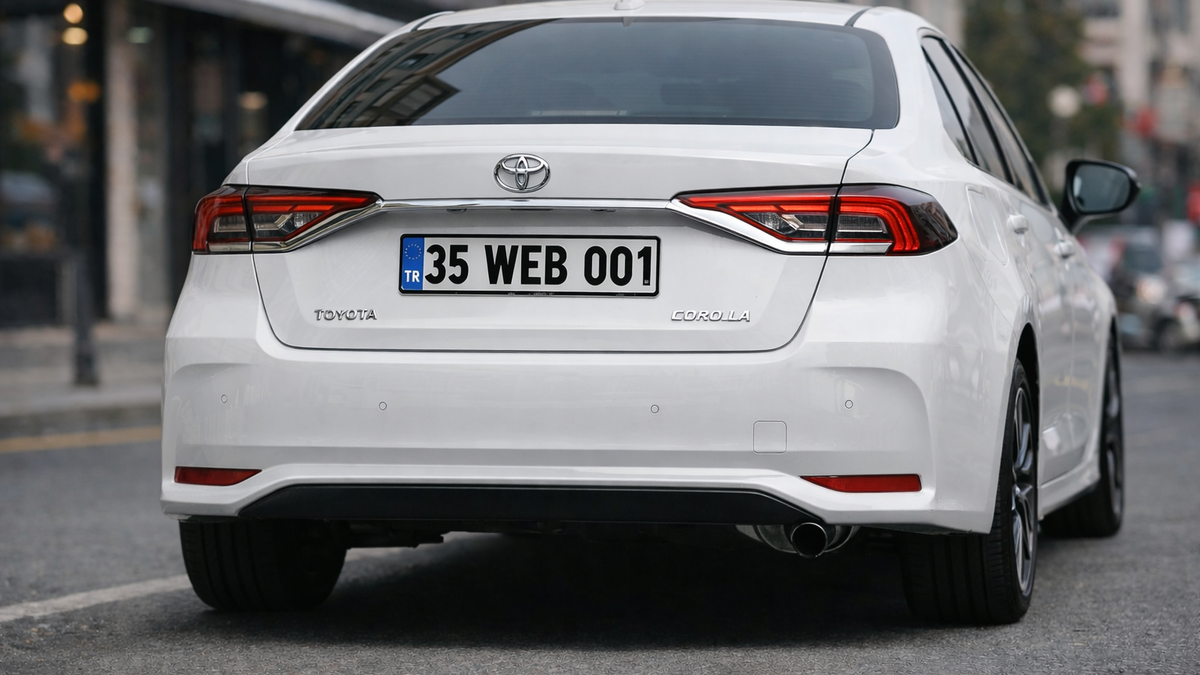plate: (394, 235, 664, 292)
